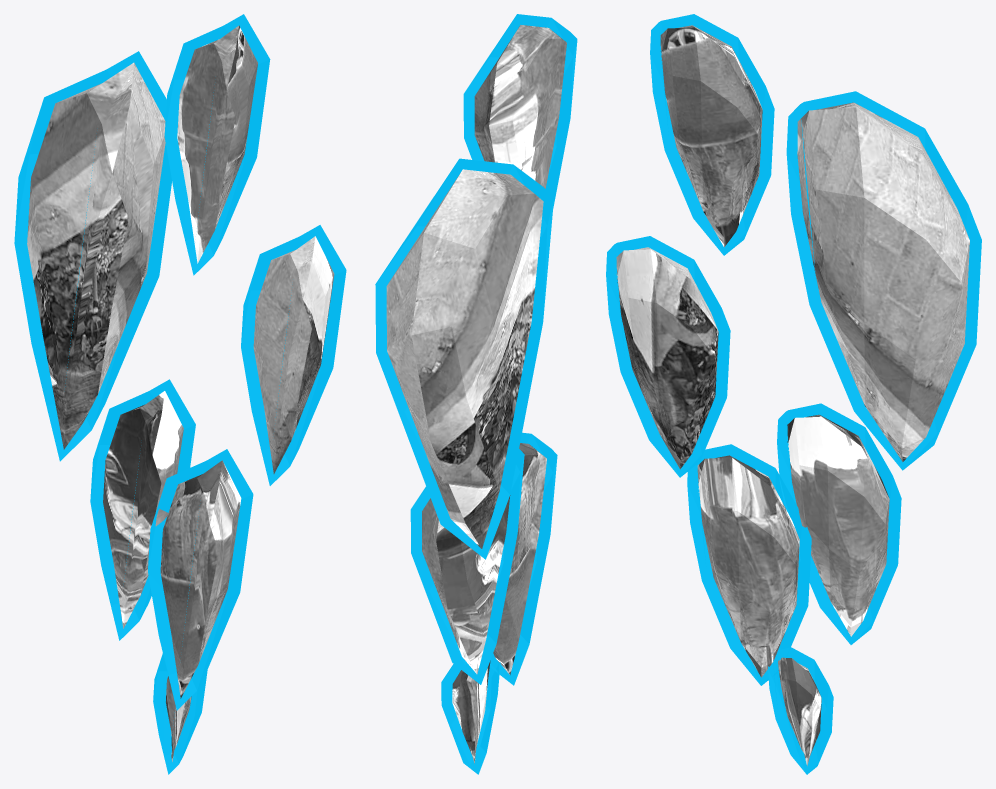
File: Domestication_of_the_Public_Realm.glb
3 renders of one model, left to right at view 1: azimuth 30°, elevation 25°; view 2: azimuth 150°, elevation 25°; view 3: azimuth 270°, elevation 25°, orthographic. The views are drawn at different scales.
Parts seen in each view (by area): view 1: Juan Roldan.001; view 2: Juan Roldan.001; view 3: Juan Roldan.001.
Part boxes in pixels (left/top/right/bottom): Juan Roldan.001: left=14, top=14, right=346, bottom=774; Juan Roldan.001: left=375, top=14, right=577, bottom=774; Juan Roldan.001: left=606, top=14, right=981, bottom=774.
Bounding box in the file's own units: 0.8662 × 3.46 × 1.54.
2 materials, 1 textured.
